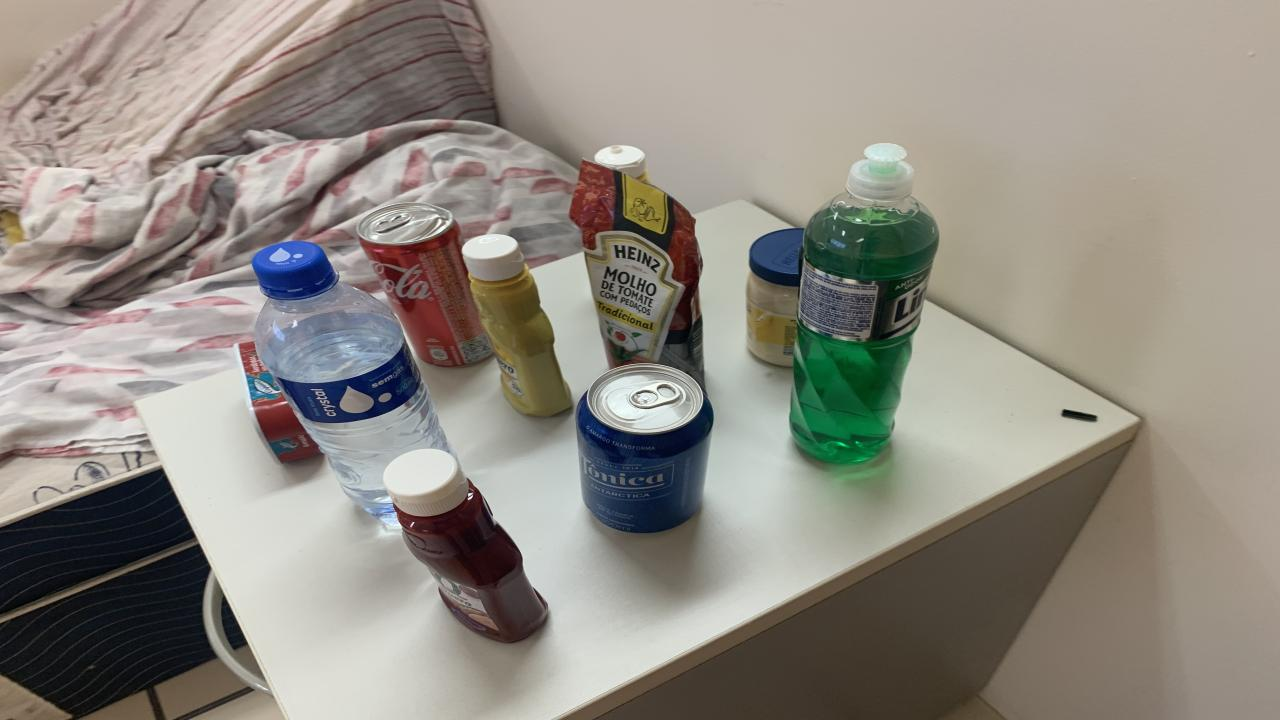Coke-Drinks: (358, 202, 492, 366)
Detergent-Cleanup_Items: (790, 144, 938, 463)
Ketchup-Pantry_Items: (382, 448, 548, 643)
Mayonnaise-Pantry_Items: (745, 229, 805, 368)
Mustard-Pantry_Items: (462, 234, 572, 416)
Tomato_Sauce-Pantry_Items: (570, 161, 702, 384)
Tonic-Drinks: (578, 364, 712, 532)
Tuna_Can-Pantry_Items: (235, 343, 320, 463)
Water_Bottle-Drinks: (252, 242, 450, 523)
